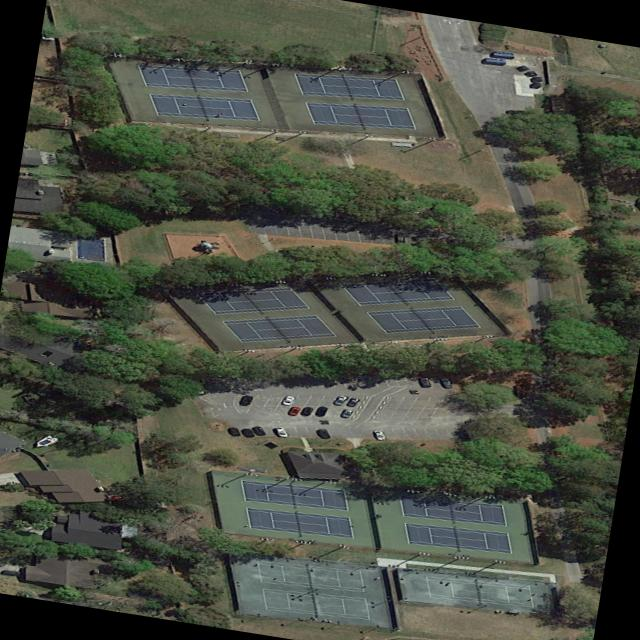ship: (32, 434, 61, 448)
small-vehicle: (314, 404, 333, 417), (239, 393, 255, 405), (281, 394, 297, 405), (333, 394, 349, 405), (251, 425, 267, 435), (346, 397, 361, 407), (242, 427, 257, 437), (287, 406, 301, 416), (440, 377, 454, 387), (274, 427, 289, 436), (373, 430, 388, 439), (228, 426, 243, 435), (301, 406, 314, 416), (318, 429, 332, 438), (341, 408, 355, 417), (419, 377, 433, 386)
